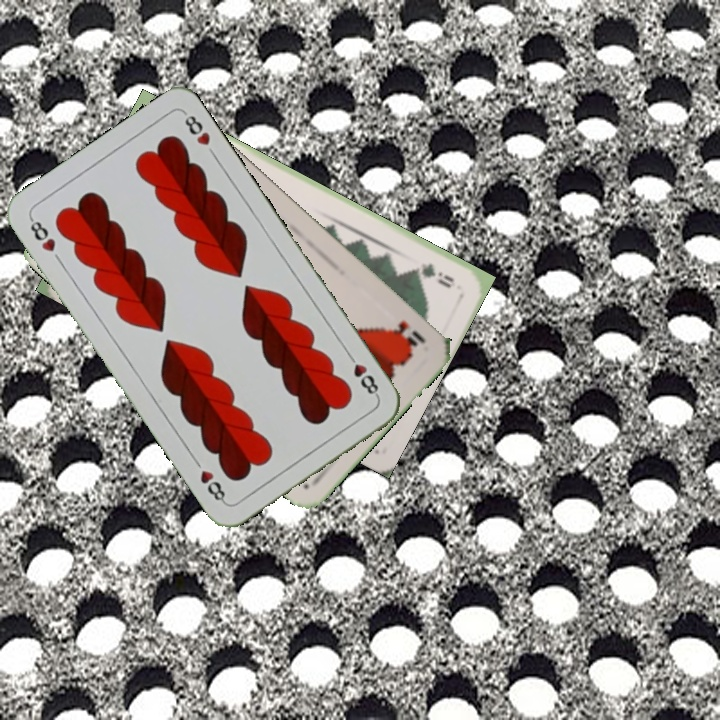G9: (408, 259, 458, 291)
H8: (342, 348, 382, 400), (25, 214, 58, 255)
HO: (389, 316, 429, 350)
